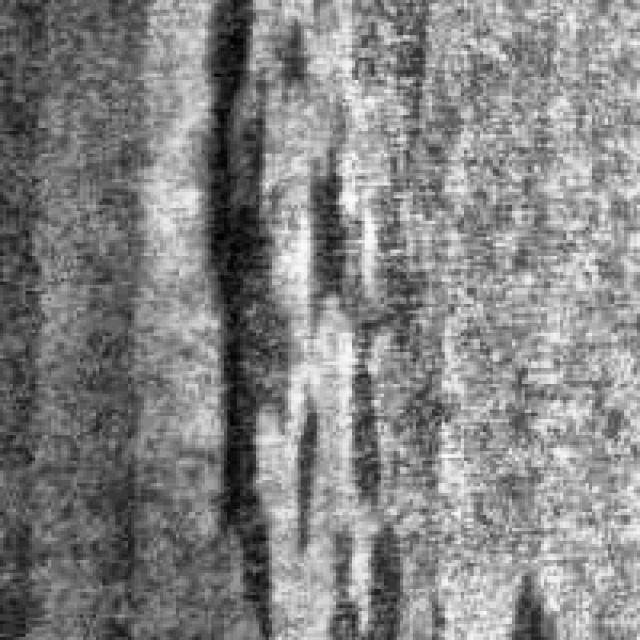Patches: (202, 0, 400, 627)
